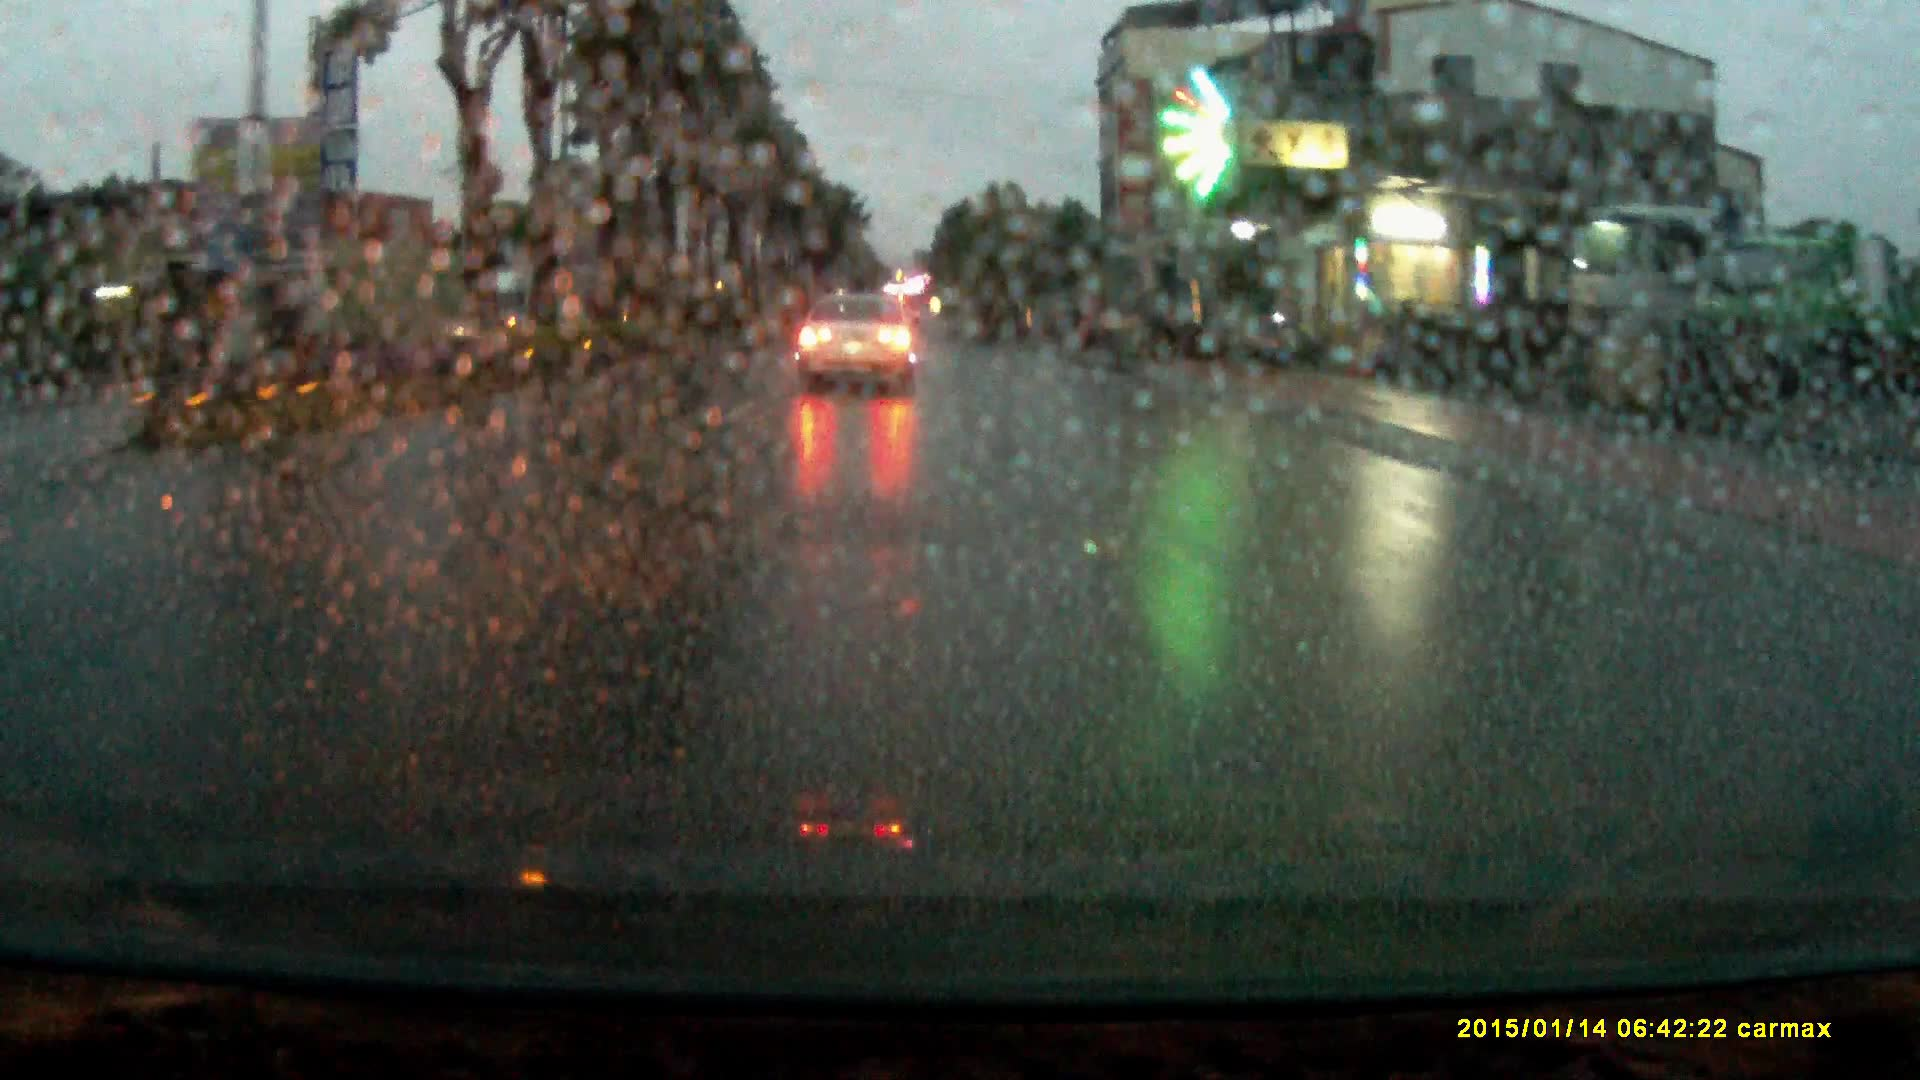vehicle: (1697, 240, 1920, 396), (1557, 208, 1724, 382), (795, 297, 916, 400), (462, 276, 567, 343)
